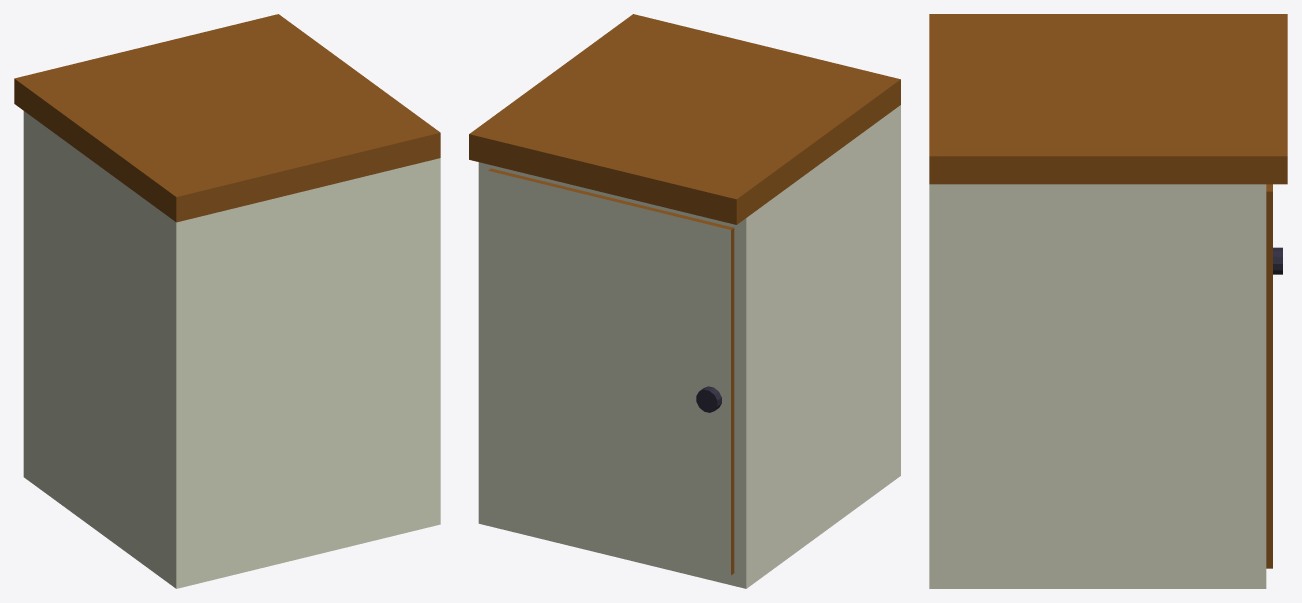
The model's file is meuble placard.fbx.
3 views of the same model, side by side, from view 1: azimuth 30°, elevation 25°; view 2: azimuth 150°, elevation 25°; view 3: azimuth 270°, elevation 25° (orthographic). The views are drawn at different scales.
Visible parts, largest first — view 1: meuble avec placard; view 2: meuble avec placard; view 3: meuble avec placard.
Part boxes in pixels (box(x1,y1,x2,y2)): meuble avec placard: box(14, 14, 440, 588); meuble avec placard: box(469, 14, 900, 588); meuble avec placard: box(929, 14, 1287, 588).
Bounding box in the file's own units: 60 × 85 × 63.75.
